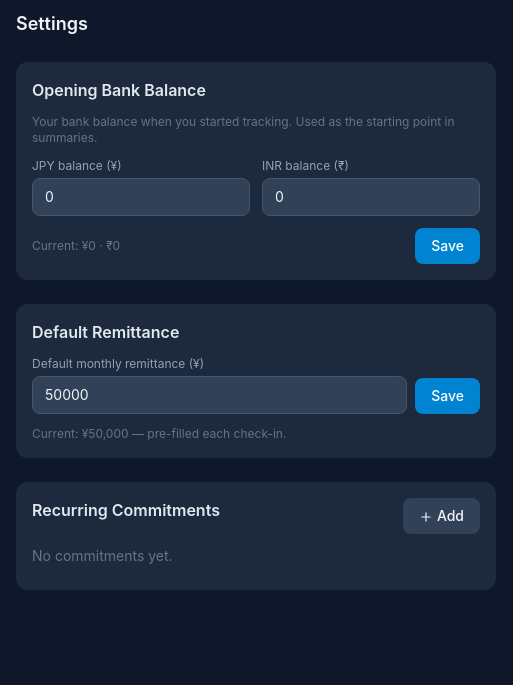
Test case: SettingsView › opens commitment form on Add button click
The width and height of the screenshot is (513, 685).
Step 1. Click the button "Add" → point(441, 516), box [403,498,480,534]
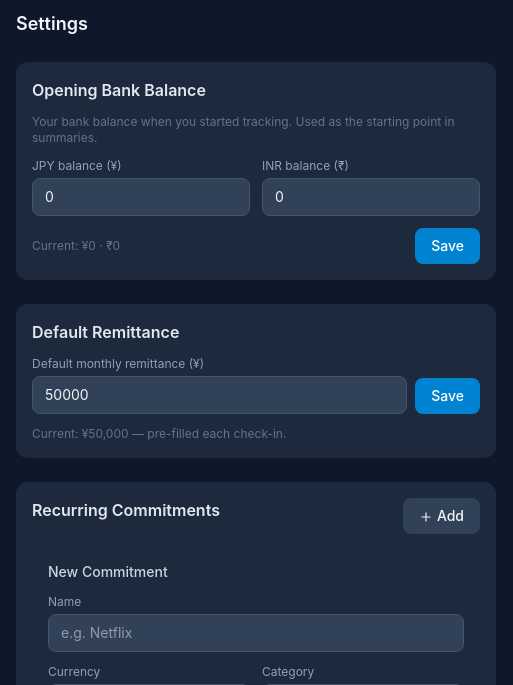
Check: the heading "New Commitment" is shown, box [48,563,168,580]
